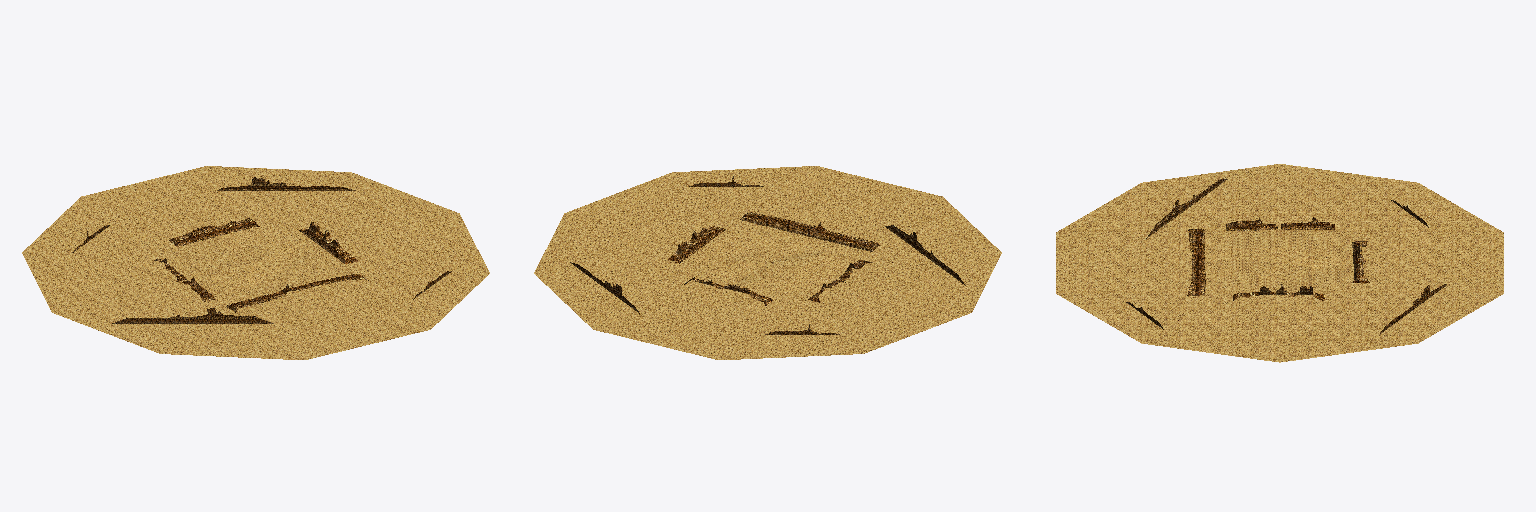
3 renders of one model, left to right at view 1: azimuth 30°, elevation 25°; view 2: azimuth 150°, elevation 25°; view 3: azimuth 270°, elevation 25°, orthographic.
Parts seen in each view (by area): view 1: Desert, Hoodoo6, Hoodoo3, Hoodoo5, Hoodoo8, Hoodoo4; view 2: Desert, Hoodoo5, Hoodoo4, Hoodoo6; view 3: Desert, Hoodoo5, Hoodoo6.
Part boxes in pixels (left/top/right/bottom): Desert: left=22, top=166, right=489, bottom=359; Hoodoo6: left=112, top=308, right=273, bottom=323; Hoodoo3: left=169, top=218, right=259, bottom=246; Hoodoo5: left=226, top=274, right=368, bottom=312; Hoodoo8: left=217, top=177, right=355, bottom=190; Hoodoo4: left=299, top=222, right=357, bottom=263; Desert: left=534, top=166, right=1001, bottom=359; Hoodoo5: left=740, top=212, right=879, bottom=251; Hoodoo4: left=668, top=226, right=725, bottom=263; Hoodoo6: left=885, top=225, right=965, bottom=285; Desert: left=1056, top=164, right=1503, bottom=362; Hoodoo5: left=1187, top=229, right=1205, bottom=295; Hoodoo6: left=1145, top=179, right=1227, bottom=239.
Size of the model in its own units: 248 by 10.35 by 236.
Materials: 2 (2 with a texture image).